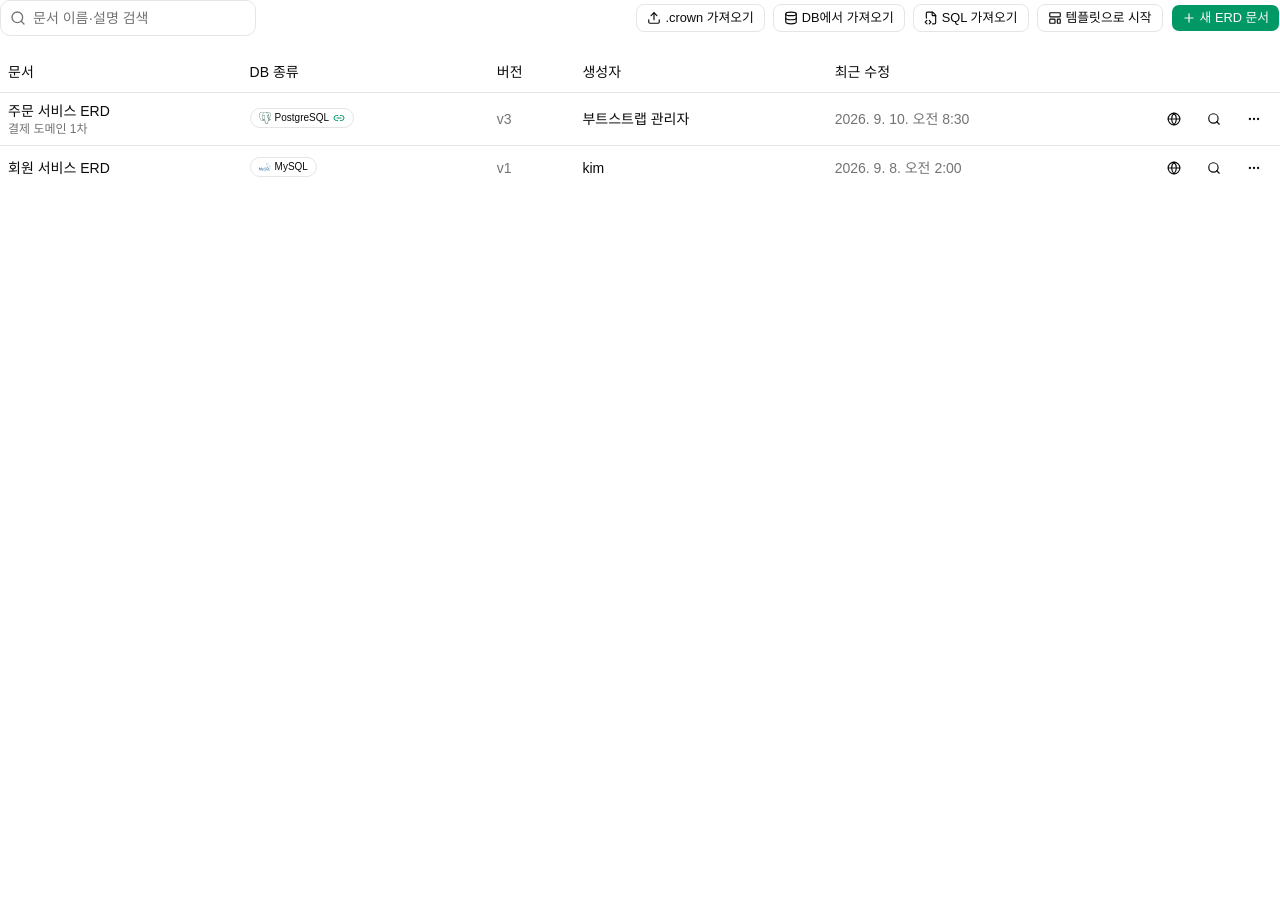
Test: ERD 탭 › edits a document name and description via the row action
Expected: the button "주문 서비스 ERD" is shown, [8,100,110,120]
Note: 행 작업 메뉴 → 이름·설명 수정 → 다이얼로그에 기존 값 프리필
Click the button named "주문 서비스 ERD 문서 작업": (1254, 118) [1236,104,1272,132]
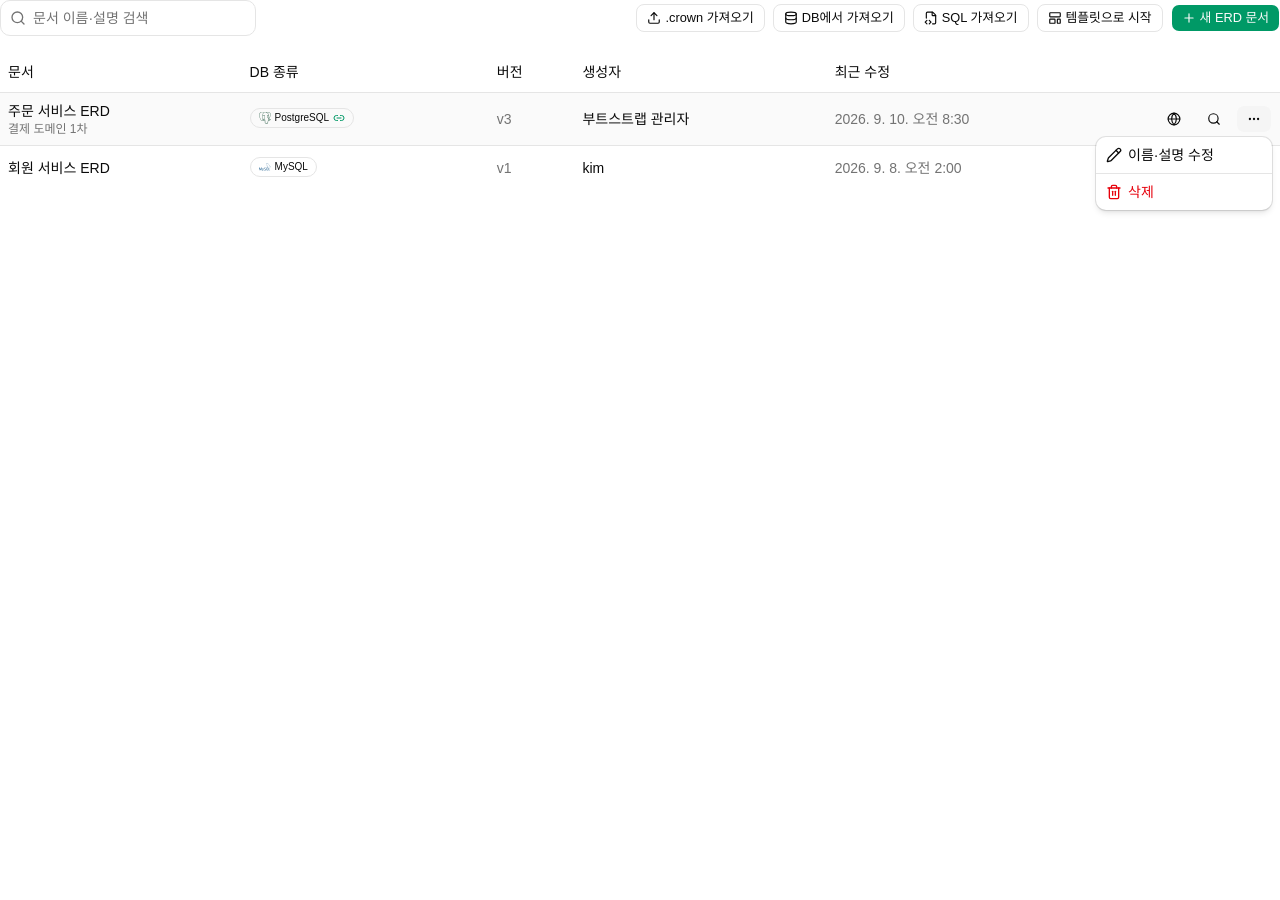
Click the menu item "이름·설명 수정": (1160, 155) [1106,147,1214,163]
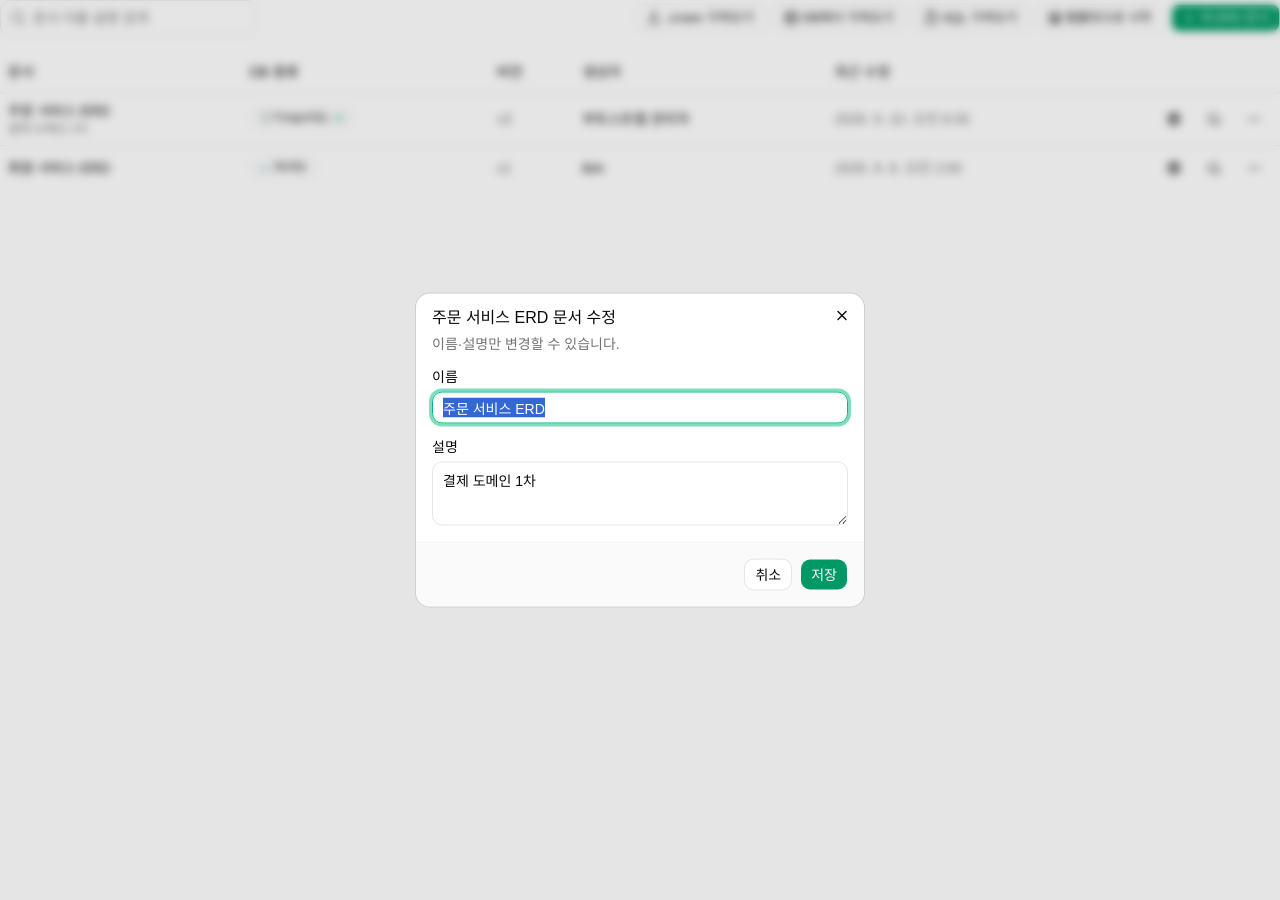
Expected: the field labelled "이름" holds "주문 서비스 ERD"
Replace the text in the field labelled "이름" with "주문 서비스 ERD v2": (640, 408) [432,392,848,424]
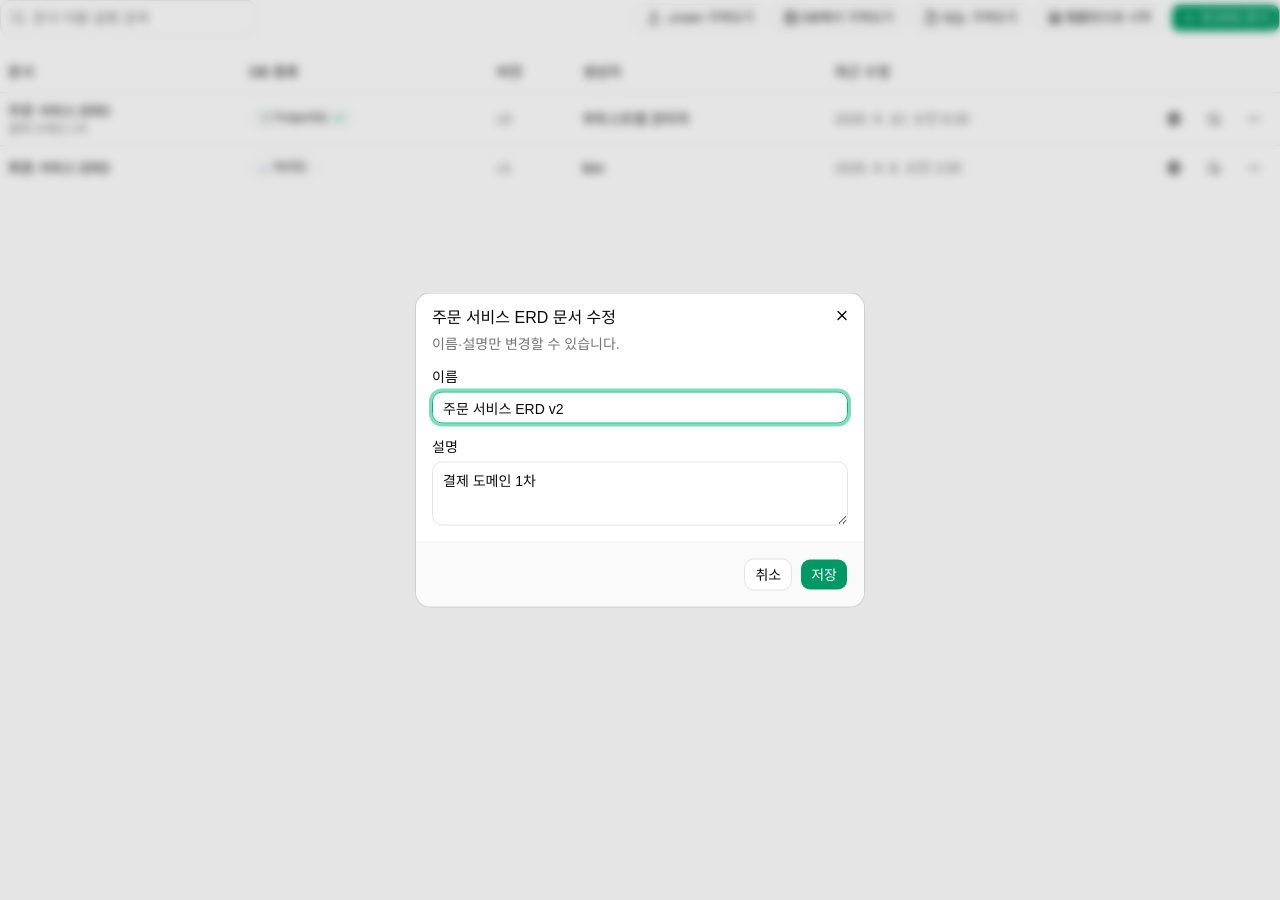
Click the button "저장": (824, 574) [800,558,848,590]
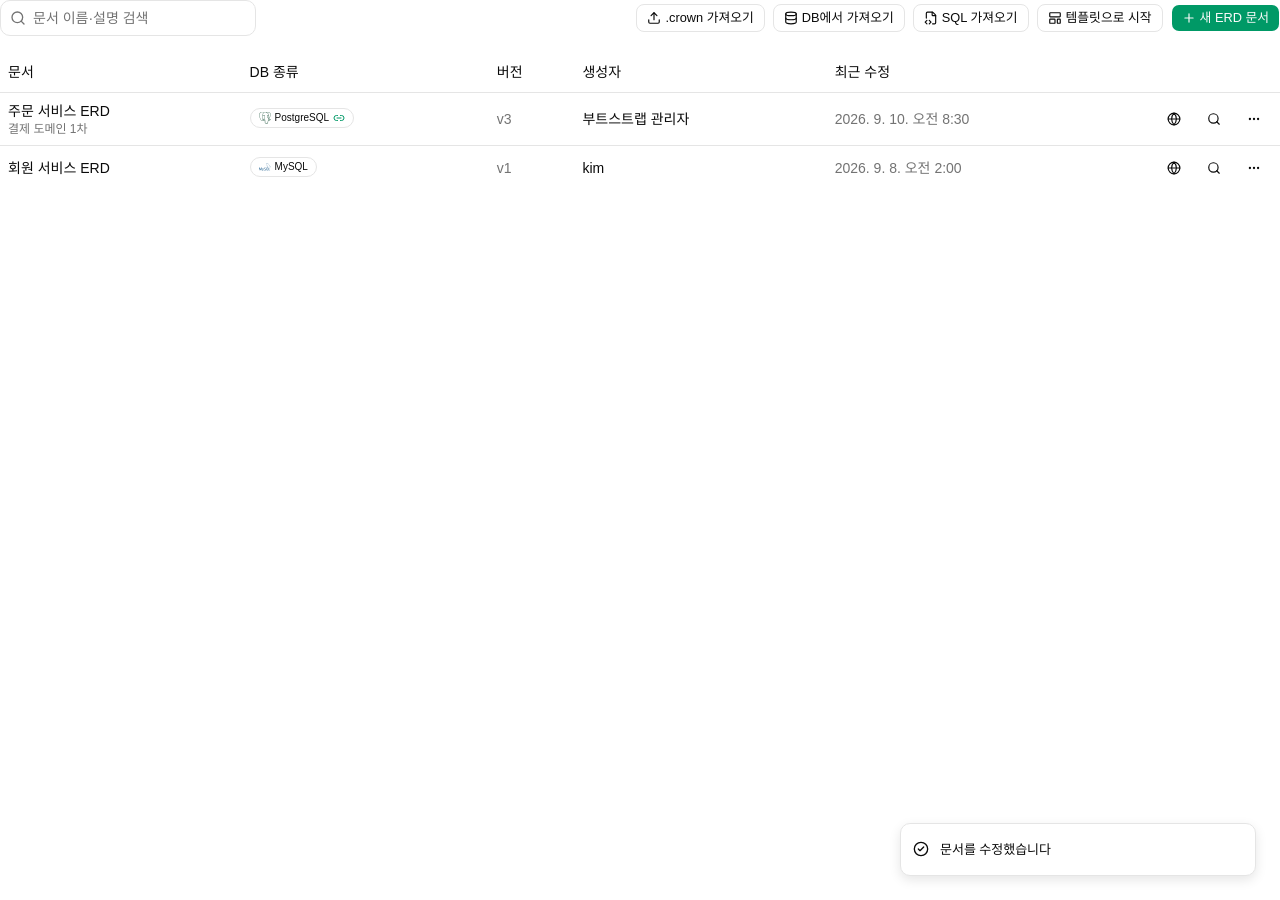
Expected: the button "저장" is gone
